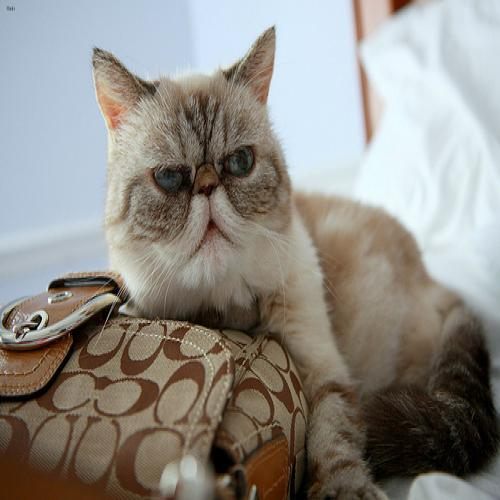persian: (79, 25, 310, 332)
